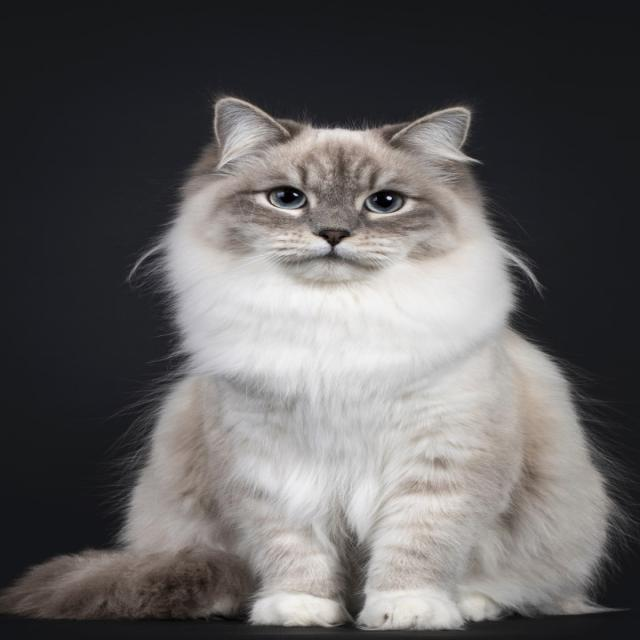Neva Masquerade: (0, 91, 626, 636)
